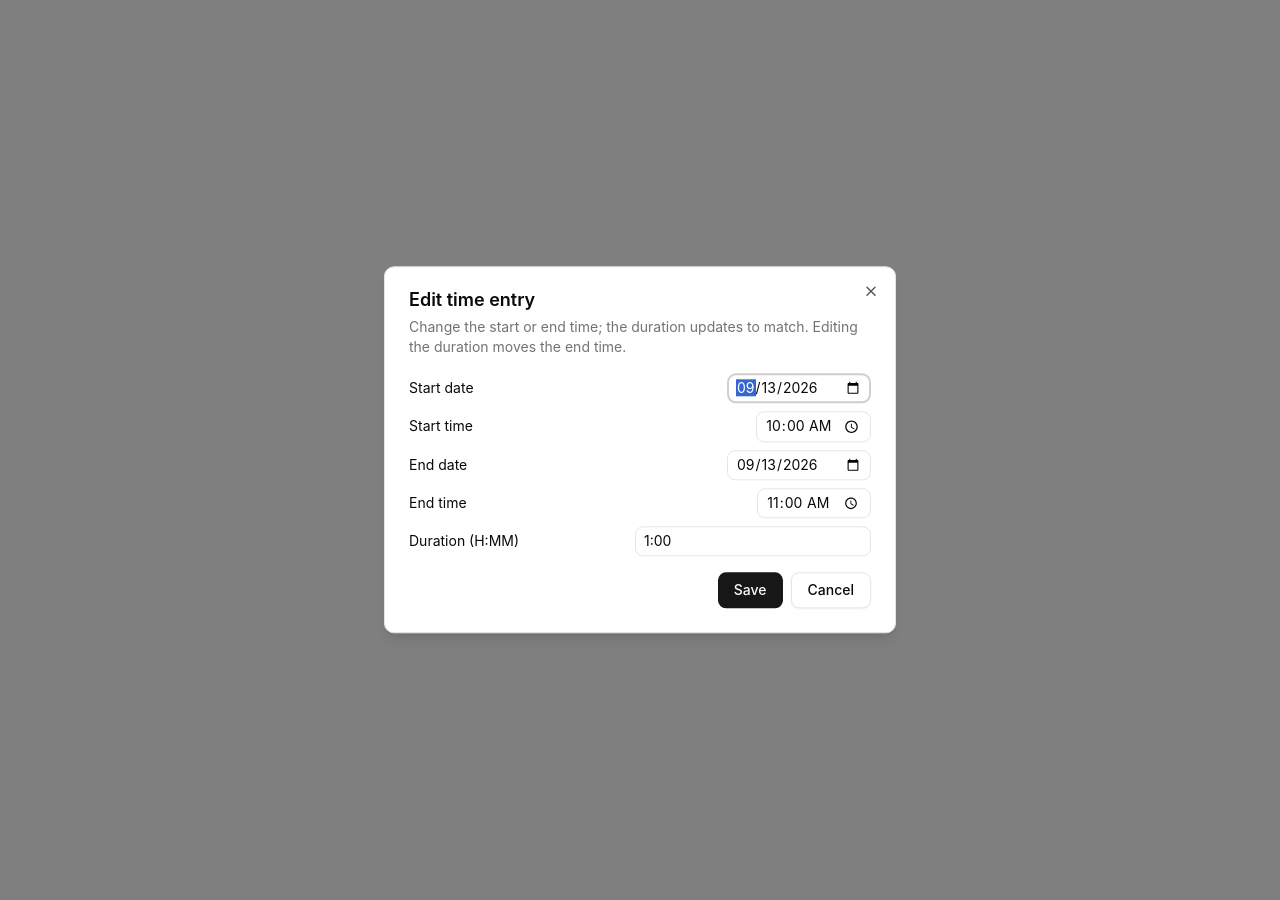
ClockEditor (Story 7.8, FR-8) › surfaces a command failure and keeps the dialog open
This screenshot has width=1280, height=900.
What coordinates should you click on to do the following:
click the button "Save"
I would click on:
 (750, 591)
Its box is [718, 573, 782, 609].
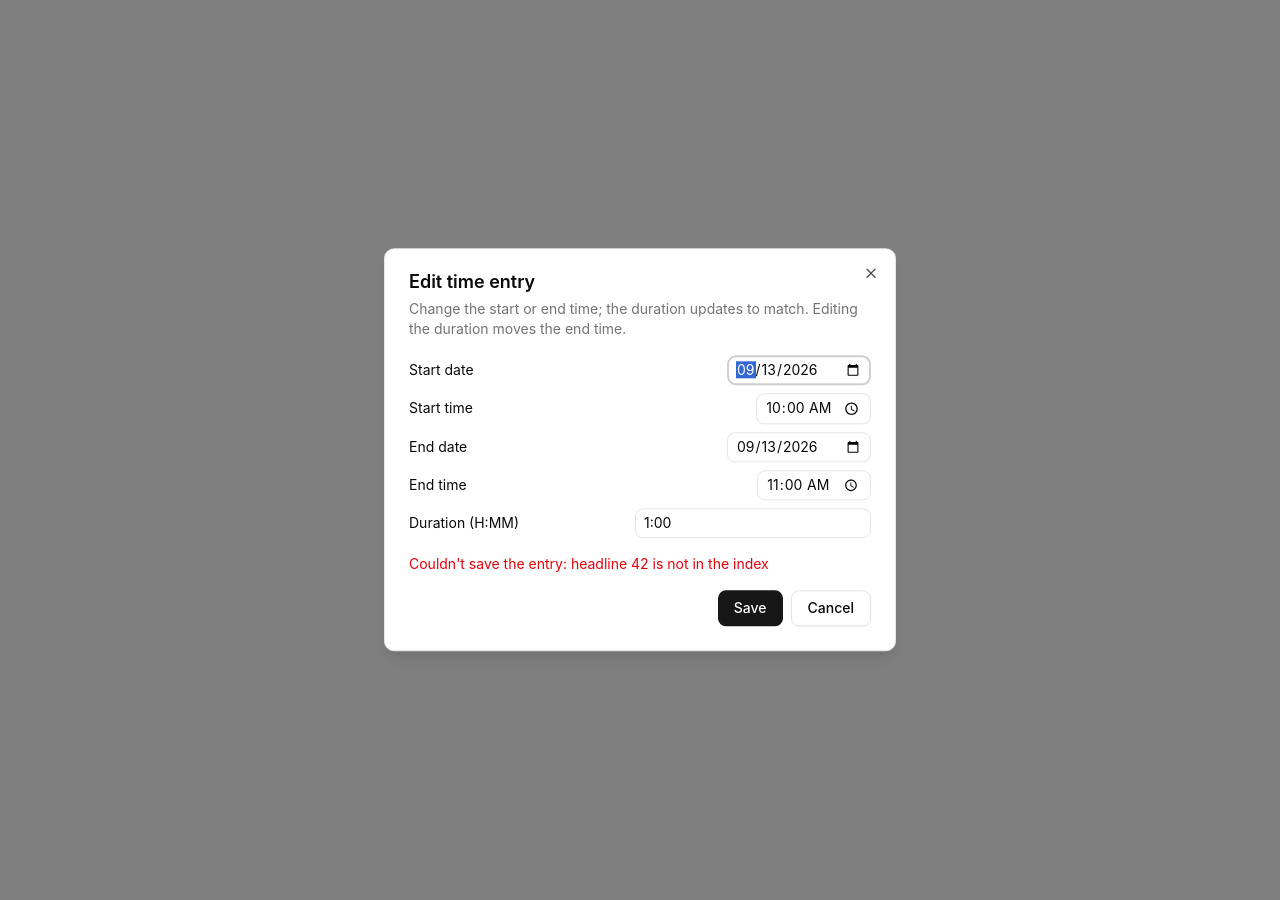
Expected: the message with id "clock-editor-error" shows "not in the index", [571, 556, 769, 573]
